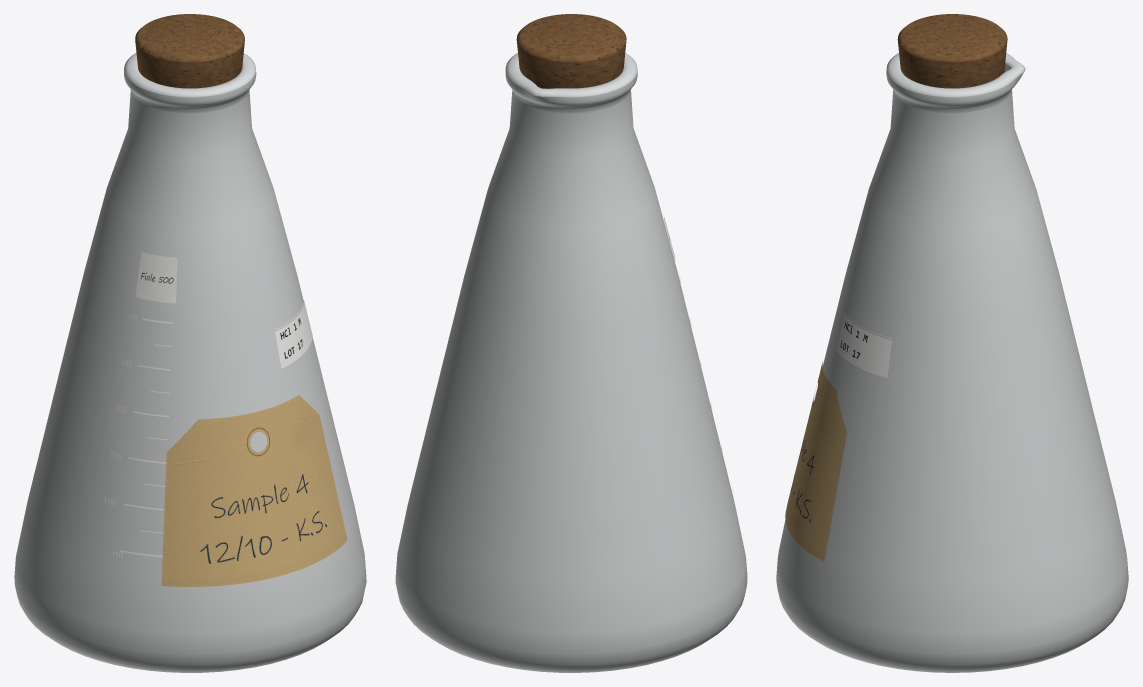
File: v2_erlenmeyer_lab.glb
3 views of the same model, side by side, from view 1: azimuth 30°, elevation 25°; view 2: azimuth 150°, elevation 25°; view 3: azimuth 270°, elevation 25° (orthographic).
Visible parts, largest first — view 1: Glass, Label_front, Cap, Label_grad, Label_tag; view 2: Glass, Cap; view 3: Glass, Cap, Label_front, Label_tag.
Part boxes in pixels (<box>): Glass: <box>14,53,366,672</box>; Label_front: <box>161,395,347,586</box>; Cap: <box>135,14,244,88</box>; Label_grad: <box>104,252,177,557</box>; Label_tag: <box>275,300,312,368</box>; Glass: <box>395,53,747,672</box>; Cap: <box>516,14,626,88</box>; Glass: <box>776,53,1128,672</box>; Cap: <box>897,14,1007,88</box>; Label_front: <box>785,362,847,561</box>; Label_tag: <box>836,313,892,377</box>.
Bounding box in the file's own units: 0.1051 × 0.1884 × 0.1053.
6 materials, 4 textured.
